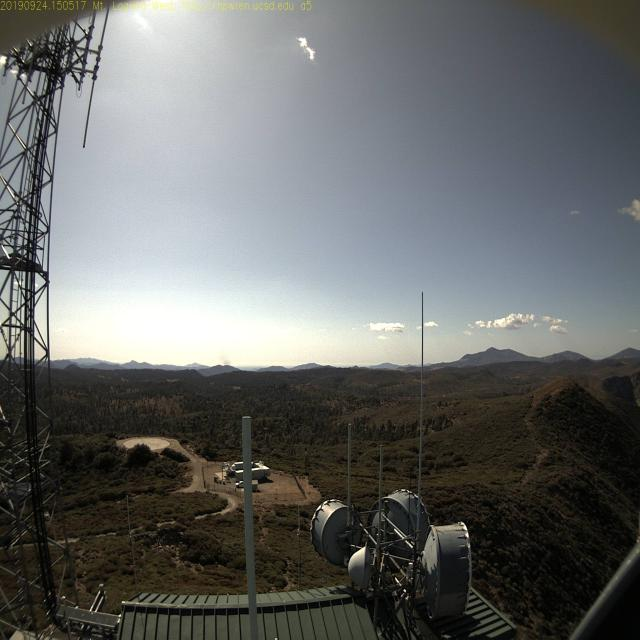smoke: (220, 350, 233, 369)
